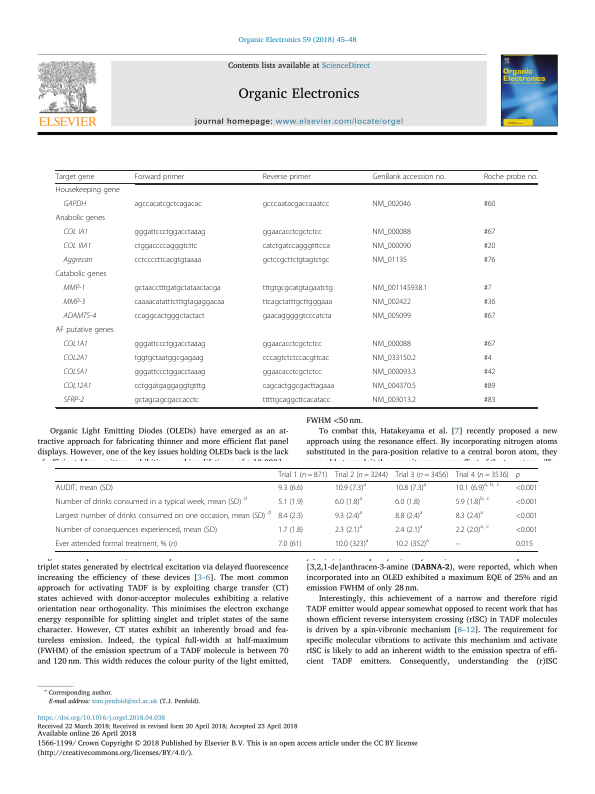borderless: (54, 168, 537, 407), (54, 466, 538, 551)
cell: (55, 509, 272, 521), (55, 495, 248, 507), (55, 525, 218, 535), (55, 539, 178, 549), (133, 297, 225, 307), (133, 283, 222, 293), (133, 227, 206, 237), (133, 339, 206, 349), (133, 367, 206, 377), (133, 381, 206, 391), (262, 381, 335, 391), (262, 283, 334, 293), (133, 311, 205, 321), (133, 353, 205, 363), (262, 297, 333, 307), (133, 199, 203, 209), (262, 311, 332, 321), (262, 241, 331, 251), (133, 255, 202, 265), (262, 395, 331, 405), (262, 199, 330, 209), (262, 255, 330, 265), (262, 353, 330, 363), (372, 172, 447, 181), (133, 395, 200, 405), (55, 185, 121, 195), (133, 241, 198, 251), (262, 227, 323, 237), (54, 325, 115, 335), (262, 339, 323, 349), (262, 367, 323, 377), (55, 483, 114, 493), (372, 283, 428, 293), (455, 481, 500, 493), (55, 269, 107, 279), (55, 213, 106, 223), (483, 172, 538, 181), (334, 470, 389, 479), (394, 470, 449, 479), (455, 470, 510, 479), (133, 172, 185, 181), (277, 470, 328, 479), (372, 353, 417, 363), (372, 367, 417, 377), (372, 381, 417, 391), (372, 395, 417, 405), (262, 172, 311, 181), (394, 537, 430, 549), (455, 495, 490, 507), (455, 523, 490, 535), (334, 537, 369, 549), (372, 199, 412, 209), (372, 227, 412, 237), (372, 241, 412, 251), (372, 297, 412, 307), (372, 311, 412, 321), (372, 339, 412, 349), (334, 481, 367, 493), (394, 481, 427, 493), (55, 172, 95, 181), (372, 255, 408, 265), (334, 495, 363, 507), (334, 509, 363, 521), (394, 509, 423, 521), (455, 509, 484, 521), (334, 523, 363, 535), (394, 523, 423, 535), (62, 311, 97, 320), (62, 255, 93, 265), (62, 241, 92, 251), (62, 227, 89, 237), (62, 381, 92, 390), (277, 483, 304, 493), (277, 497, 304, 507), (394, 497, 421, 507), (277, 511, 304, 521), (277, 525, 304, 535), (62, 199, 87, 209), (277, 539, 302, 549), (62, 339, 89, 348), (62, 353, 89, 362), (62, 367, 89, 376), (515, 483, 538, 493), (515, 497, 538, 507), (515, 511, 538, 521), (515, 525, 538, 535), (62, 283, 86, 292), (62, 297, 86, 306), (62, 395, 85, 404), (515, 539, 534, 549), (483, 199, 496, 209), (483, 227, 496, 237), (483, 241, 496, 251), (483, 255, 496, 265), (483, 297, 496, 307), (483, 311, 496, 321), (483, 339, 496, 349), (483, 367, 496, 377), (483, 381, 496, 391), (483, 395, 496, 405), (483, 283, 492, 293), (483, 353, 492, 363), (515, 472, 521, 479), (455, 543, 461, 547)
